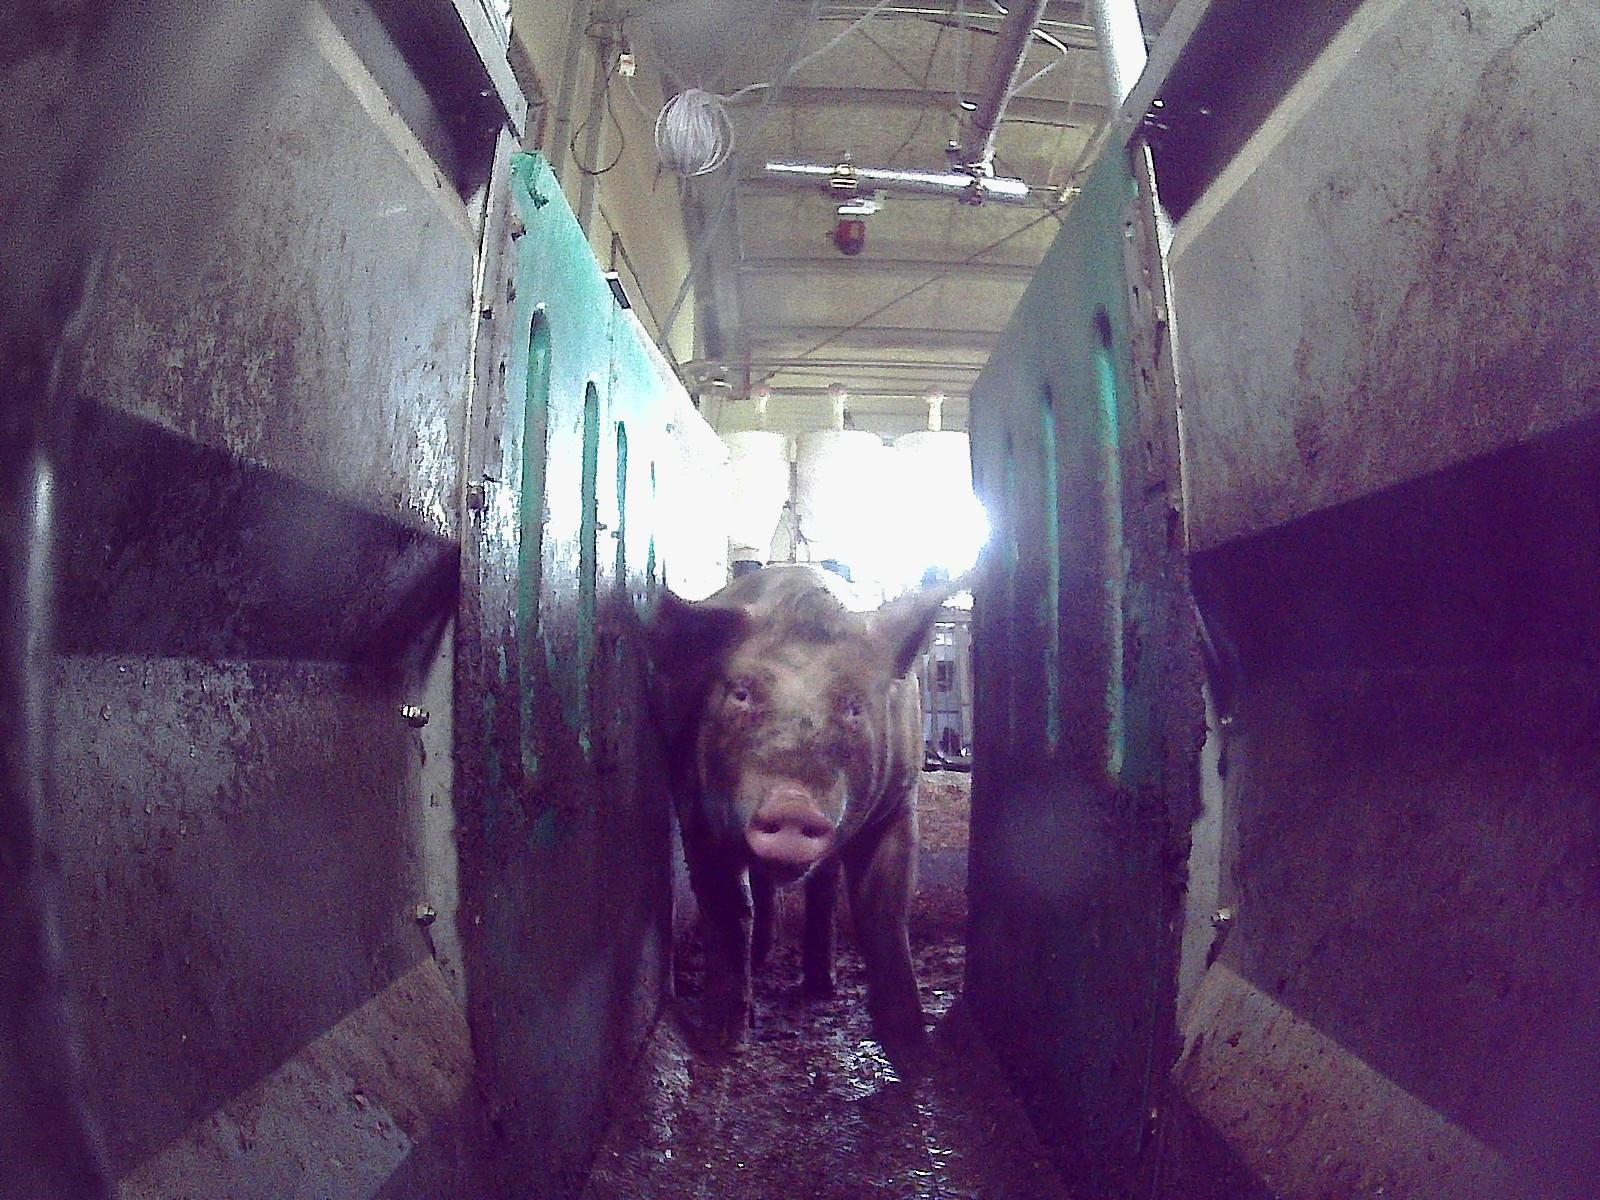Face: (700, 609, 880, 877)
